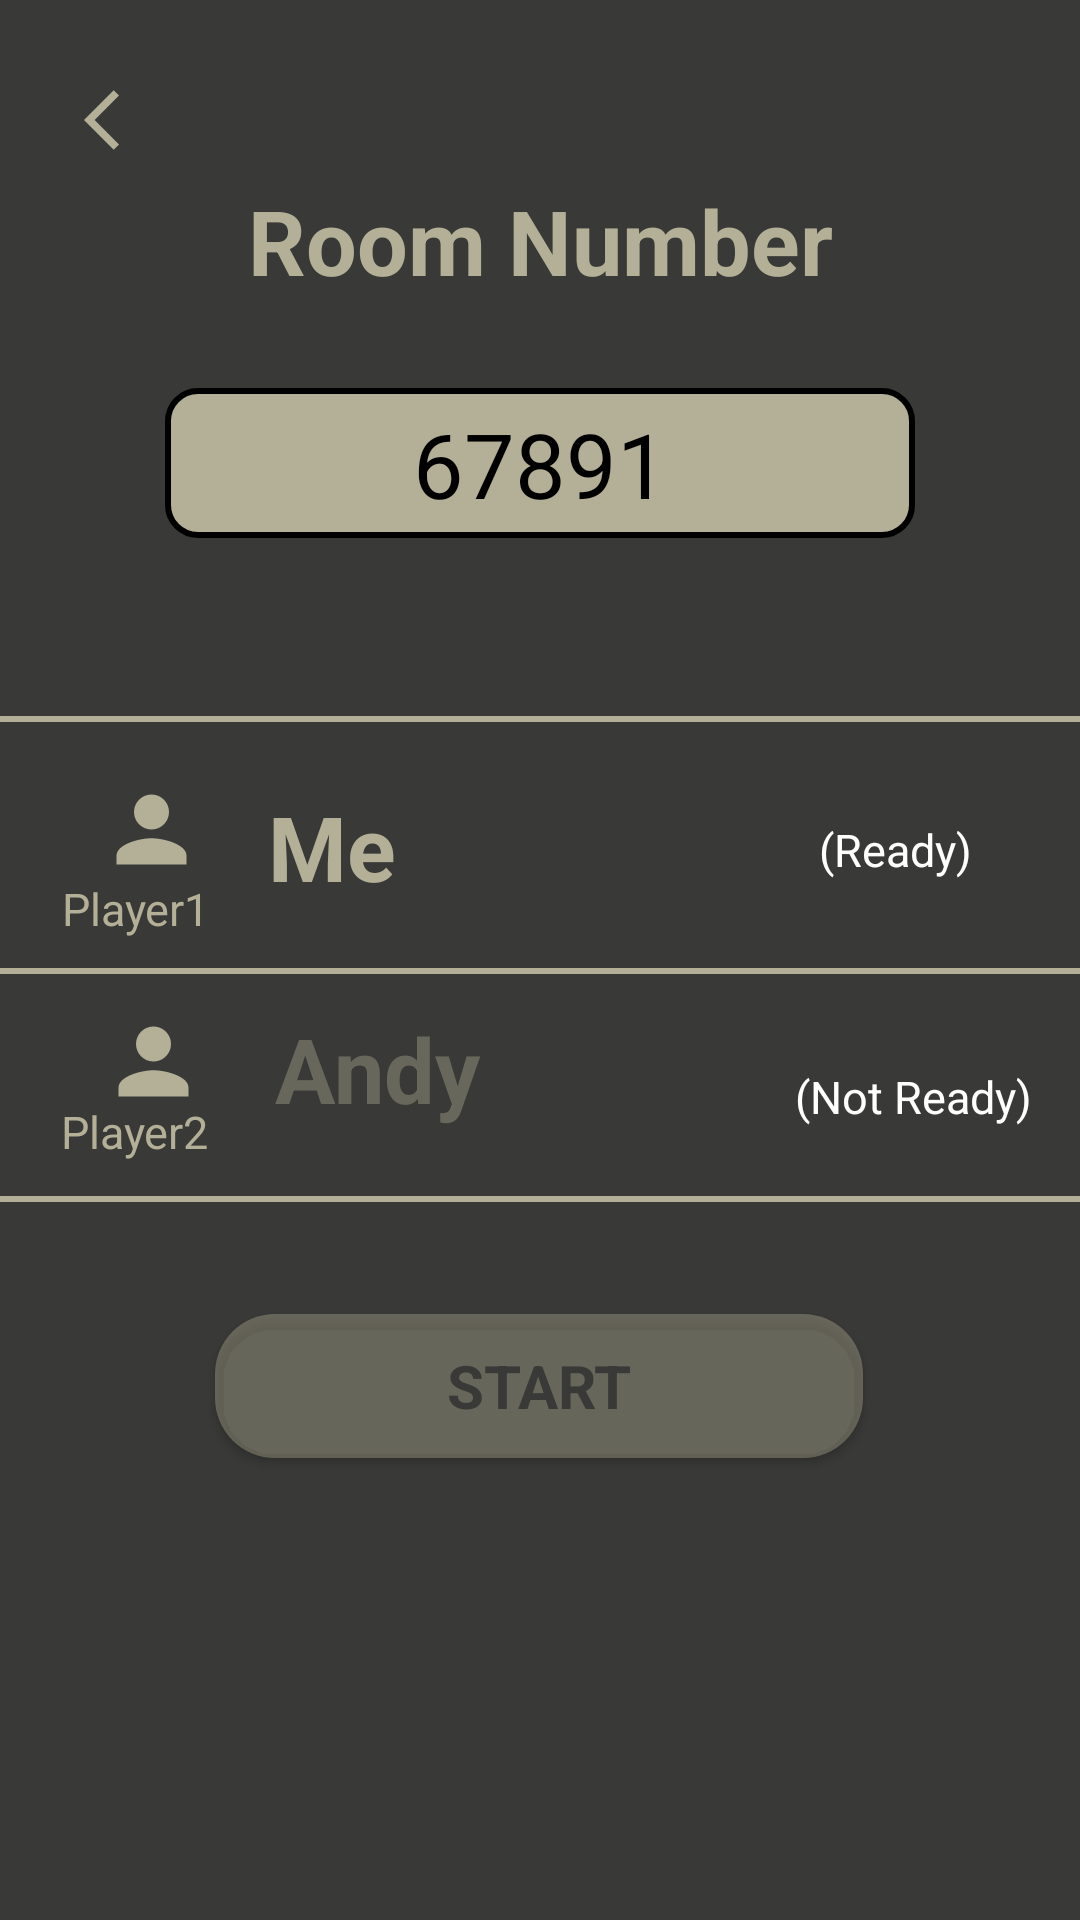

Icon bounding boxes for this 1080x1920 phone screenshot, format rect(x1, y1, x2, y2):
arrow back: rect(84, 90, 119, 150)
person: rect(116, 794, 187, 865), rect(118, 1026, 189, 1097)
